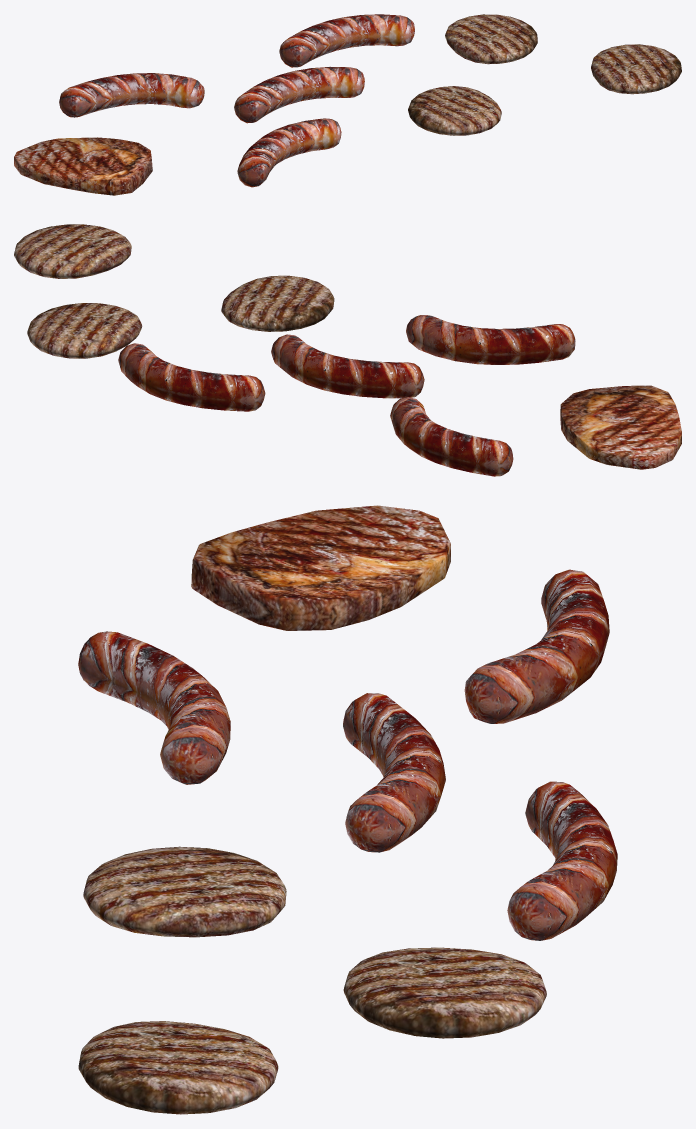
Rendered from GardenFoodGrilled01_3.FBX.
3 views of the same model, one above another, from view 1: azimuth 30°, elevation 25°; view 2: azimuth 150°, elevation 25°; view 3: azimuth 270°, elevation 25° (orthographic). The views are drawn at different scales.
Parts seen in each view (by area): view 1: GardenFoodGrilled01_3; view 2: GardenFoodGrilled01_3; view 3: GardenFoodGrilled01_3.
Boxes of the visible parts, <box> form: GardenFoodGrilled01_3: <box>14,14,681,195</box>; GardenFoodGrilled01_3: <box>14,224,681,476</box>; GardenFoodGrilled01_3: <box>78,505,617,1114</box>.
Size of what is drawn, in the model's own units: 0.7277 by 0.0324 by 0.2804.
